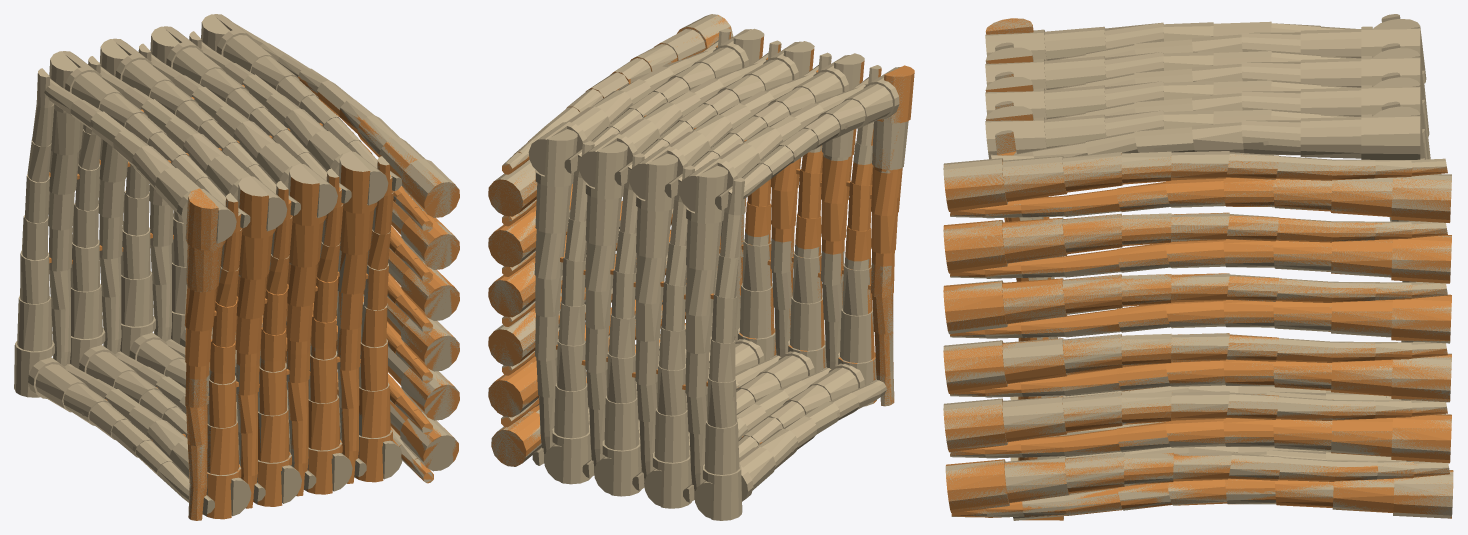
Rendered from shelter.fbx.
3 views of the same model, side by side, from view 1: azimuth 30°, elevation 25°; view 2: azimuth 150°, elevation 25°; view 3: azimuth 270°, elevation 25° (orthographic). The views are drawn at different scales.
Parts seen in each view (by area): view 1: rodzic, sciana.001, sciana, sciana.002, sufit.010, sciana.003, branch1, branch1.003, sufit.002, sufit, branch1.002, sufit.004 (+3 smaller); view 2: rodzic, sciana, sciana.001, sciana.003, sciana.002, sufit.010, branch1.003, branch1, branch1.002, sufit.009, sufit.011, sufit.003 (+3 smaller); view 3: rodzic, sciana.001, sufit.002, sufit, sufit.010, sufit.004, sufit.006, sufit.008, sufit.011, sufit.009, sufit.003, sufit.007 (+6 smaller).
Boxes of the visible parts, x1,y1,x2,y2 form: rodzic: (14, 18, 459, 520); sciana.001: (62, 14, 400, 226); sciana: (48, 14, 229, 368); sciana.002: (64, 328, 402, 516); sufit.010: (234, 23, 458, 217); sciana.003: (202, 151, 393, 516); branch1: (28, 357, 213, 512); branch1.003: (185, 189, 223, 520); sufit.002: (336, 302, 458, 420); sufit: (286, 317, 458, 471); branch1.002: (45, 79, 236, 242); sufit.004: (363, 294, 459, 371); rodzic: (488, 15, 914, 520); sciana: (534, 129, 727, 508); sciana.001: (529, 29, 868, 210); sciana.003: (711, 28, 881, 406); sciana.002: (532, 332, 864, 506); sufit.010: (502, 14, 733, 169); branch1.003: (871, 74, 908, 406); branch1: (694, 380, 886, 508); branch1.002: (716, 68, 898, 209); sufit.009: (488, 159, 537, 215); sufit.011: (491, 325, 685, 466); sufit.003: (488, 247, 668, 366); rodzic: (943, 14, 1453, 520); sciana.001: (985, 26, 1420, 160); sufit.002: (943, 391, 1447, 449); sufit: (945, 452, 1449, 509); sufit.010: (943, 151, 1447, 203); sufit.004: (943, 333, 1446, 386); sufit.006: (944, 273, 1447, 334); sufit.008: (943, 213, 1447, 267); sufit.011: (951, 470, 1453, 518); sufit.009: (950, 174, 1451, 222); sufit.003: (950, 353, 1451, 402); sufit.007: (950, 236, 1451, 279).
Bounding box in the file's own units: 292 × 393 × 448.
